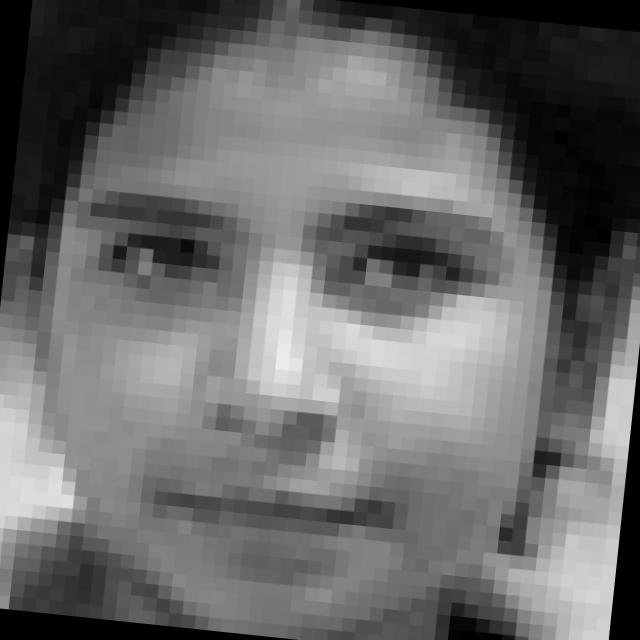neutral: (44, 144, 518, 604)
